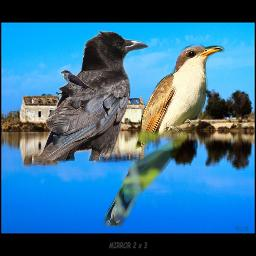Crow: (36, 30, 150, 161)
Cuckoo: (101, 41, 226, 231), (60, 70, 100, 94)
